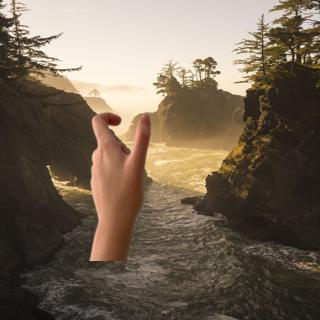HATE: (78, 105, 166, 271)
